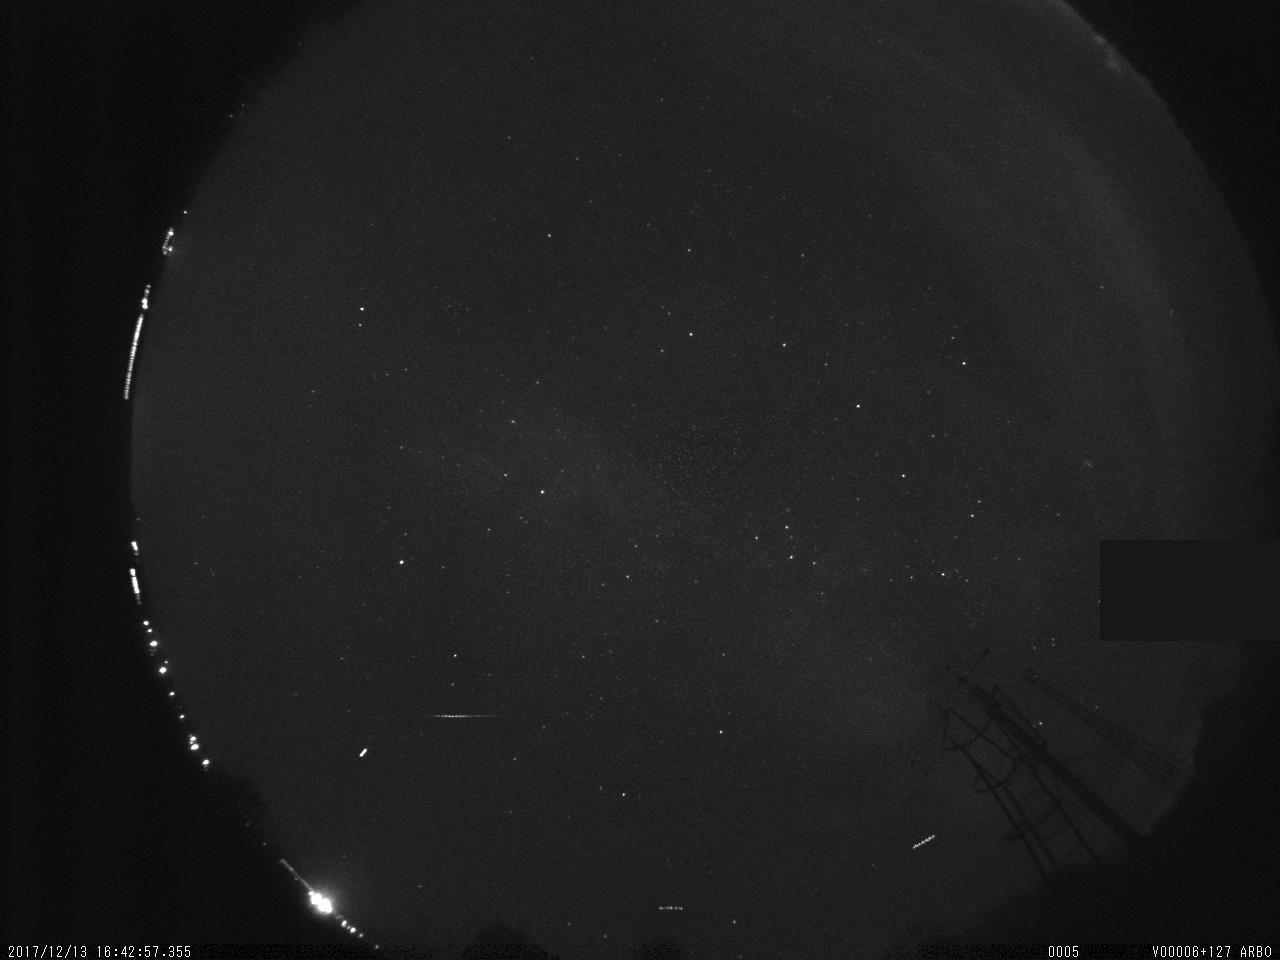meteor: (427, 706, 520, 726)
satelite: (906, 827, 941, 860), (649, 895, 691, 917), (354, 742, 373, 765)
